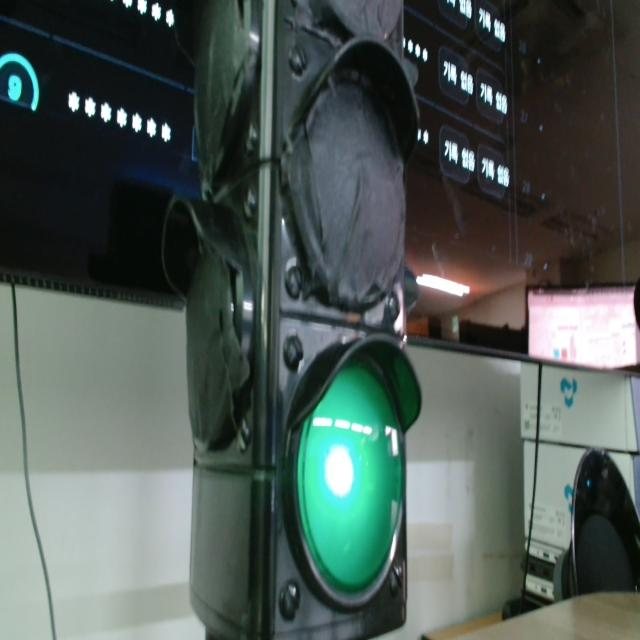green_light: (298, 361, 403, 594)
